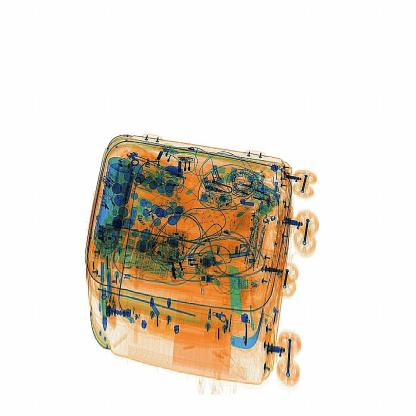scissors: (215, 252, 252, 331)
